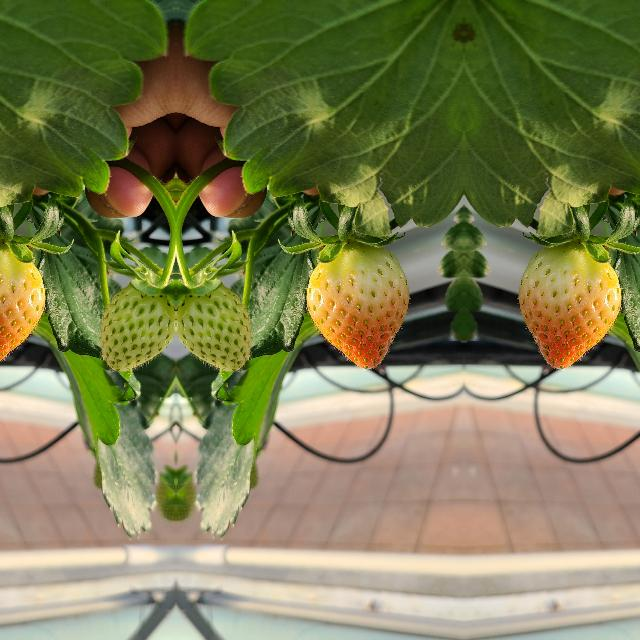Health_25: (176, 277, 252, 371), (98, 277, 174, 371)
Health_75: (306, 245, 408, 367), (518, 245, 620, 367), (0, 245, 44, 367)
